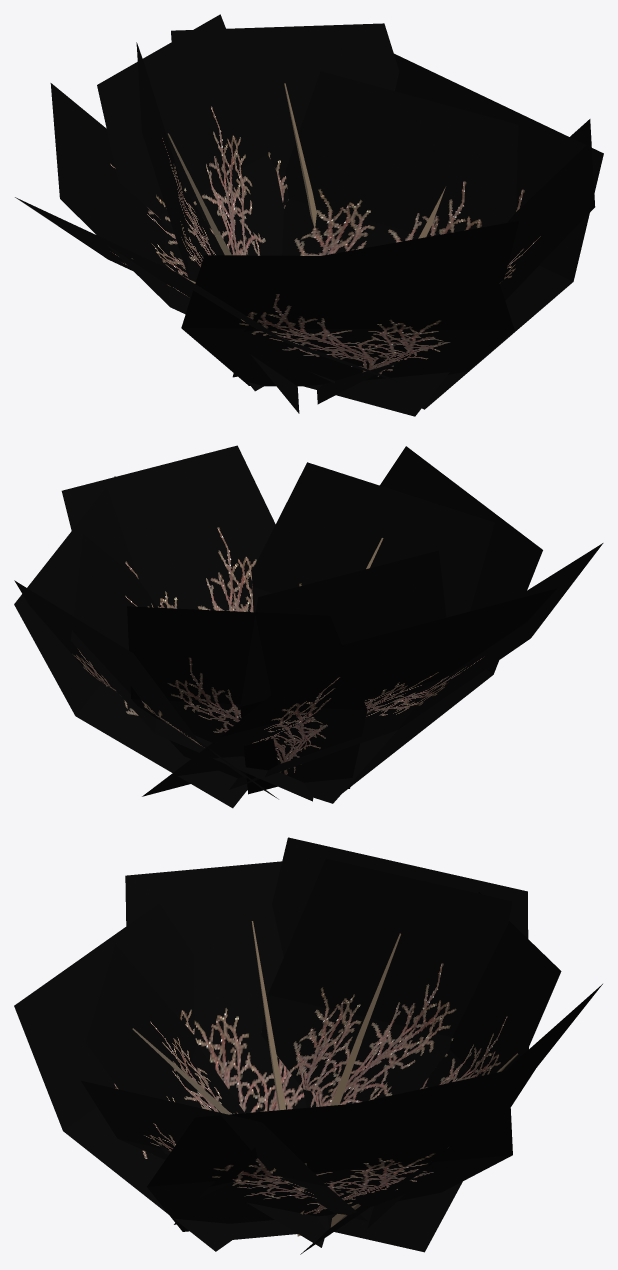
The model's file is Bush_08_Dry_Sprawl.fbx.
3 renders of one model, top to bottom at view 1: azimuth 30°, elevation 25°; view 2: azimuth 150°, elevation 25°; view 3: azimuth 270°, elevation 25°, orthographic.
Parts seen in each view (by area): view 1: Bush_08_Dry_Sprawl.001; view 2: Bush_08_Dry_Sprawl.001; view 3: Bush_08_Dry_Sprawl.001.
Part boxes in pixels (x1,y1,x2,y2): Bush_08_Dry_Sprawl.001: (15, 14, 603, 416); Bush_08_Dry_Sprawl.001: (14, 445, 603, 808); Bush_08_Dry_Sprawl.001: (14, 837, 602, 1254).
Bounding box in the file's own units: 131 × 66.32 × 128.
